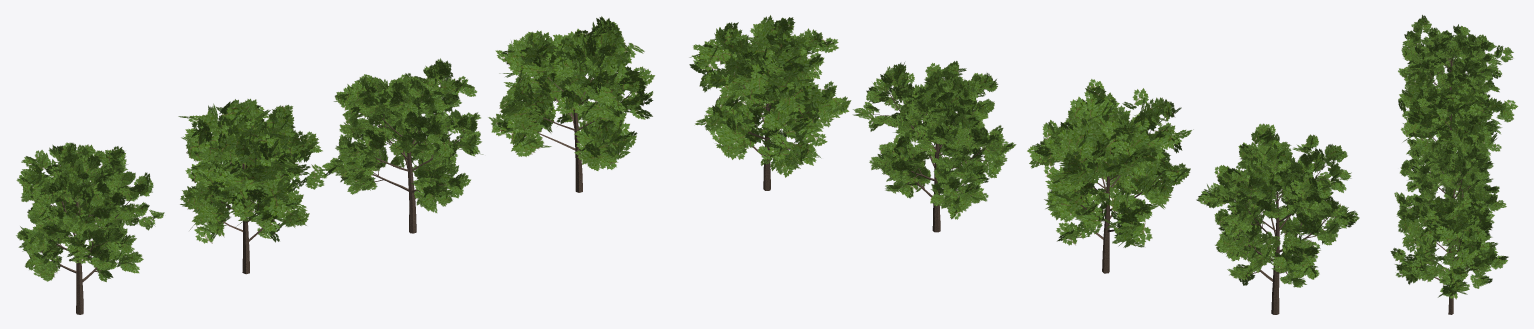
Rendered from tree_plane.glb.
3 renders of one model, left to right at view 1: azimuth 30°, elevation 25°; view 2: azimuth 150°, elevation 25°; view 3: azimuth 270°, elevation 25°, orthographic. The views are drawn at different scales.
Visible parts, largest first — view 1: v1_lo_leaf, v0_lo_leaf, v1_hi_leaf, v0_hi_leaf, v1_hi_bark, v0_hi_bark, v1_lo_bark, v0_lo_bark; view 2: v0_lo_leaf, v1_lo_leaf, v0_hi_leaf, v1_hi_leaf, v0_hi_bark, v1_hi_bark, v0_lo_bark; view 3: v1_lo_leaf, v0_lo_leaf, v0_hi_leaf, v1_hi_leaf, v1_lo_bark, v1_hi_bark, v0_hi_bark.
Part boxes in pixels (left/top/right/bottom): v1_lo_leaf: left=488, top=16, right=654, bottom=170; v0_lo_leaf: left=178, top=98, right=335, bottom=243; v1_hi_leaf: left=322, top=58, right=483, bottom=212; v0_hi_leaf: left=16, top=142, right=164, bottom=281; v1_hi_bark: left=339, top=76, right=466, bottom=233; v0_hi_bark: left=35, top=157, right=151, bottom=314; v1_lo_bark: left=537, top=74, right=631, bottom=192; v0_lo_bark: left=210, top=152, right=298, bottom=274; v0_lo_leaf: left=1027, top=79, right=1193, bottom=247; v1_lo_leaf: left=689, top=15, right=851, bottom=177; v0_hi_leaf: left=1196, top=123, right=1359, bottom=287; v1_hi_leaf: left=853, top=61, right=1016, bottom=219; v0_hi_bark: left=1232, top=143, right=1338, bottom=314; v1_hi_bark: left=872, top=78, right=995, bottom=232; v0_lo_bark: left=1073, top=130, right=1161, bottom=273; v1_lo_leaf: left=1390, top=192, right=1508, bottom=299; v0_lo_leaf: left=1398, top=71, right=1517, bottom=192; v0_hi_leaf: left=1398, top=15, right=1513, bottom=129; v1_hi_leaf: left=1394, top=136, right=1506, bottom=241; v1_lo_bark: left=1420, top=225, right=1486, bottom=314; v1_hi_bark: left=1409, top=169, right=1488, bottom=257; v0_hi_bark: left=1409, top=42, right=1502, bottom=91.
Size of the model in its own units: 76.26 by 19.81 by 19.4.
2 materials, 2 textured.
